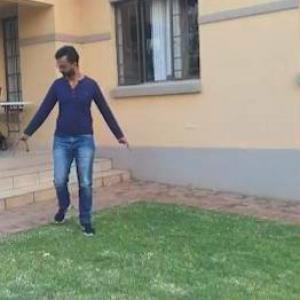land: (10, 30, 143, 247)
